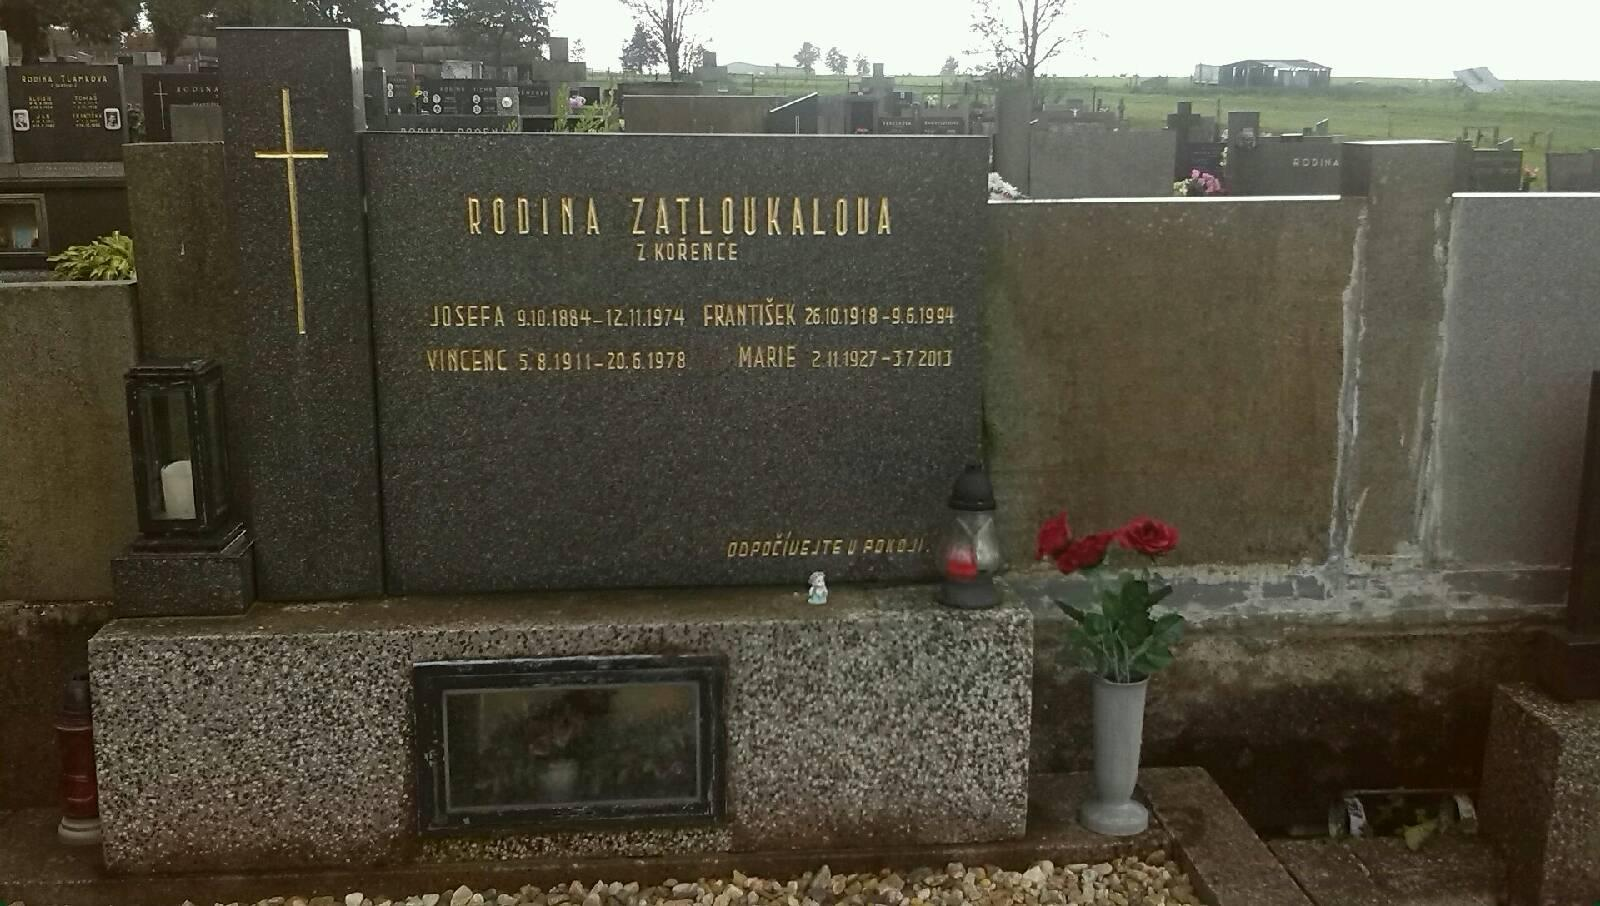upright: (100, 32, 1029, 852)
